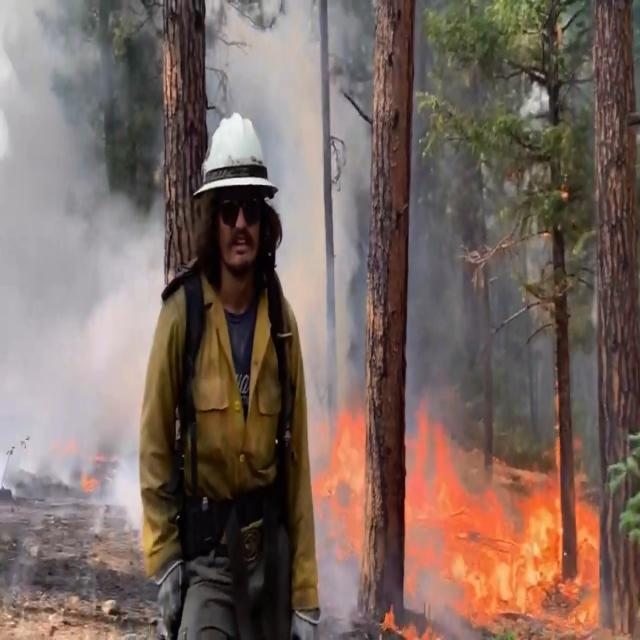Fire: (317, 381, 605, 640)
